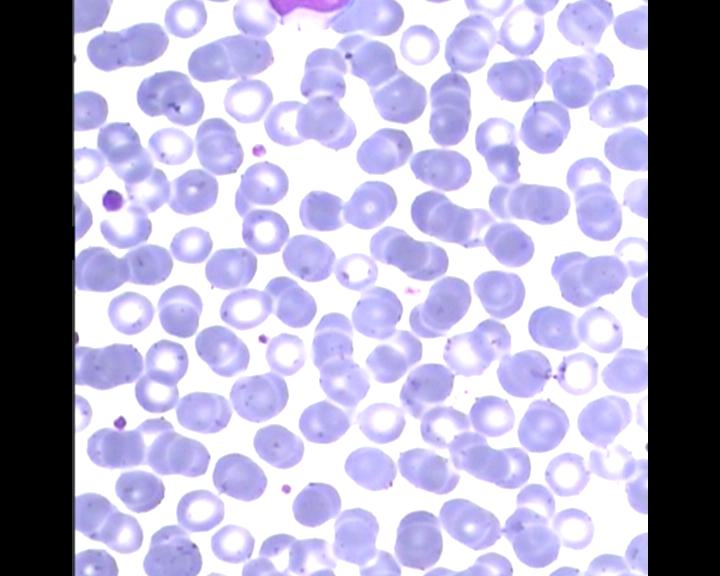mono: (261, 0, 350, 39)
